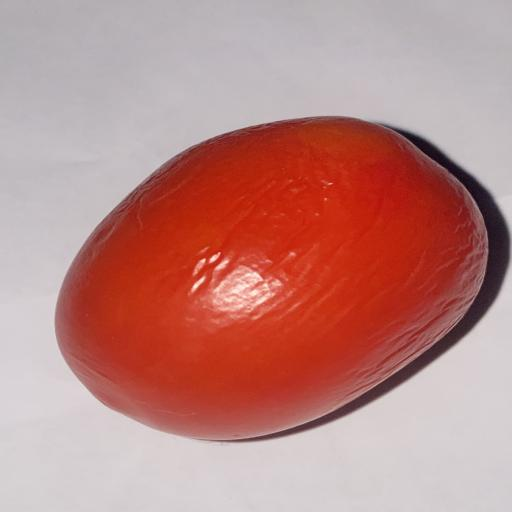overipe: (55, 117, 487, 439)
